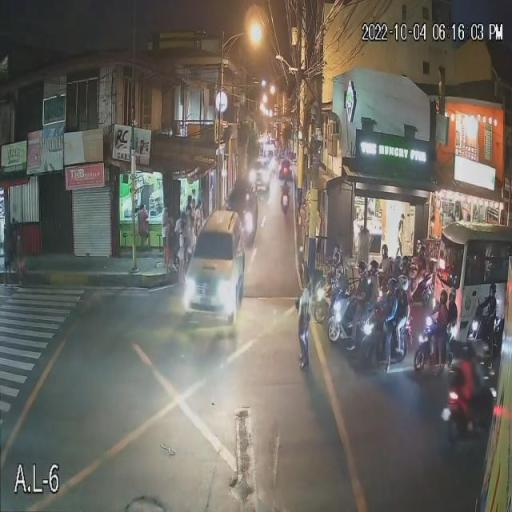helmet: (459, 345, 474, 363), (444, 287, 458, 306), (354, 260, 369, 277), (447, 337, 463, 352), (380, 246, 390, 264), (437, 289, 448, 305), (489, 280, 498, 299), (368, 262, 378, 278), (384, 272, 398, 283), (332, 256, 344, 268)
motorcycle: (441, 375, 493, 445), (350, 304, 396, 370), (464, 305, 502, 363), (326, 287, 364, 345), (412, 316, 449, 374), (308, 280, 354, 326), (402, 271, 433, 308), (280, 190, 292, 216)
rider: (443, 337, 485, 413), (379, 272, 400, 362), (393, 273, 413, 363), (351, 261, 376, 328), (430, 286, 452, 362), (474, 279, 498, 339), (319, 252, 346, 298), (372, 239, 391, 295), (412, 244, 428, 301), (281, 177, 292, 199)
